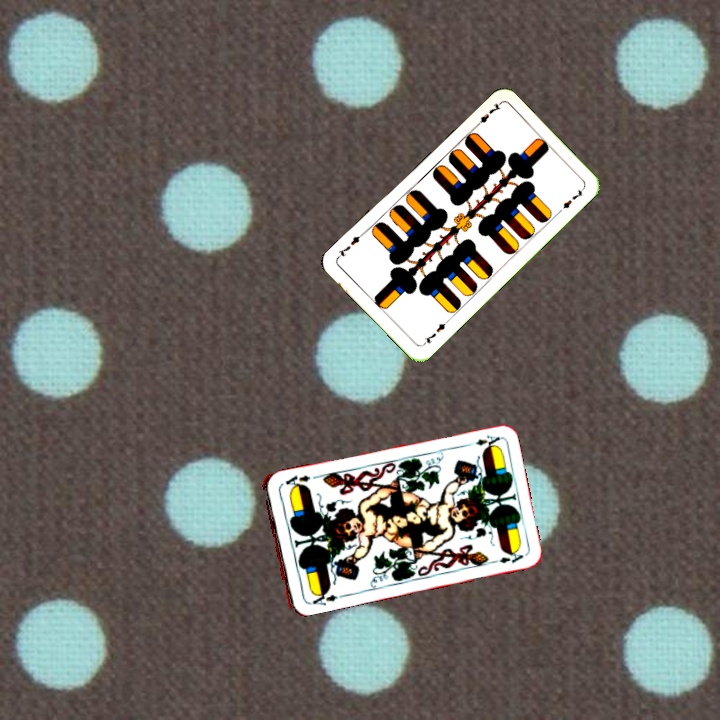E7: (418, 316, 451, 348), (470, 99, 503, 131)
EA: (301, 586, 343, 608), (462, 431, 502, 450)
